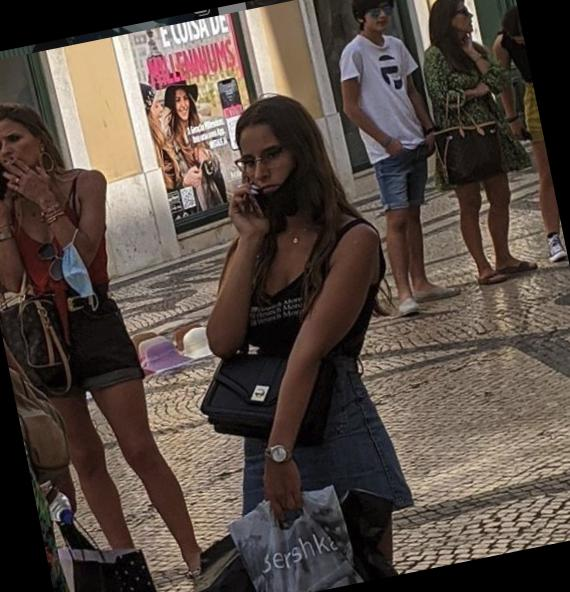mask_weared_incorrect: (235, 134, 308, 218)
without_mask: (1, 121, 39, 176), (356, 2, 401, 40), (454, 4, 477, 37), (146, 97, 167, 127), (174, 91, 193, 121)
